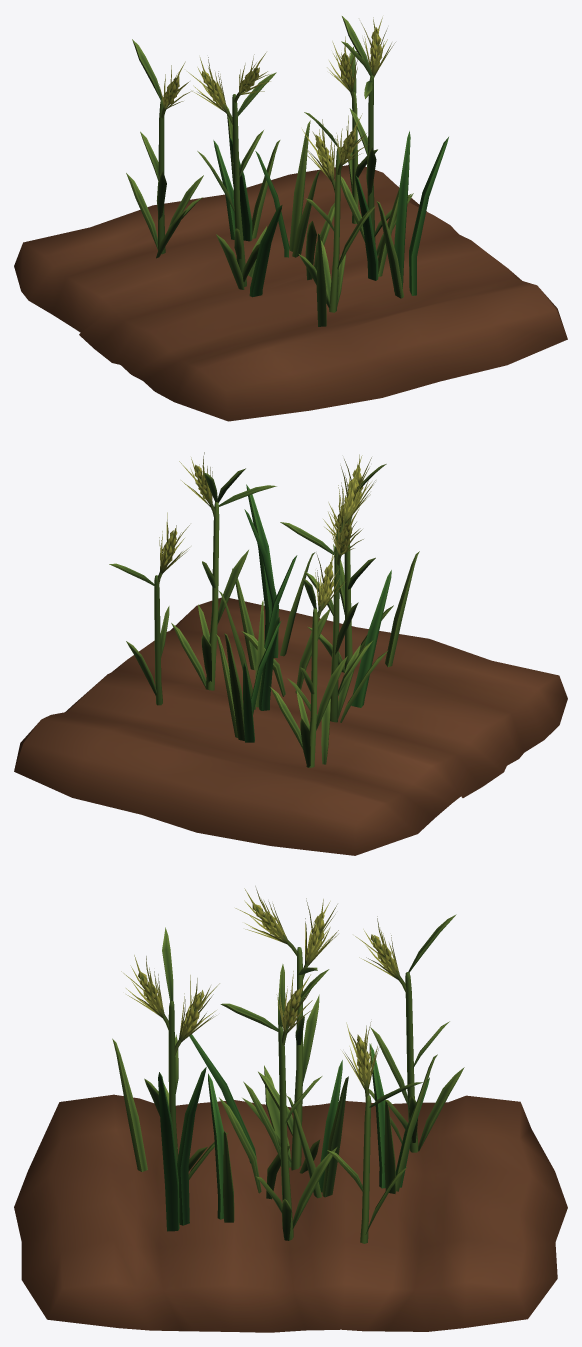
File: SM_PlantSoil_Barley_Lv3.fbx
The picture shows the model from 3 angles, top to bottom: view 1: azimuth 30°, elevation 25°; view 2: azimuth 150°, elevation 25°; view 3: azimuth 270°, elevation 25°; orthographic projection. The views are drawn at different scales.
Parts seen in each view (by area): view 1: SM_PlantSoil_Barley_Lv3; view 2: SM_PlantSoil_Barley_Lv3; view 3: SM_PlantSoil_Barley_Lv3.
Boxes of the visible parts, left/top/right/bottom form: SM_PlantSoil_Barley_Lv3: left=14, top=16, right=567, bottom=421; SM_PlantSoil_Barley_Lv3: left=14, top=452, right=567, bottom=855; SM_PlantSoil_Barley_Lv3: left=14, top=886, right=567, bottom=1332.
Size of the model in its own units: 96.14 by 67.11 by 103.
